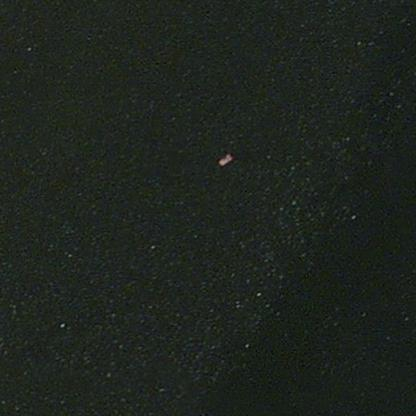ship: (222, 158, 225, 160)
